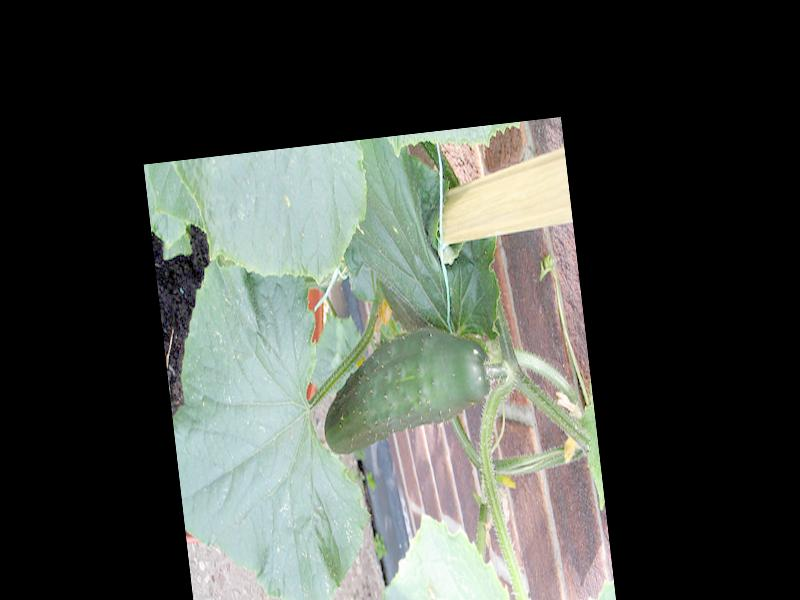Cucumber: (314, 323, 496, 459)
